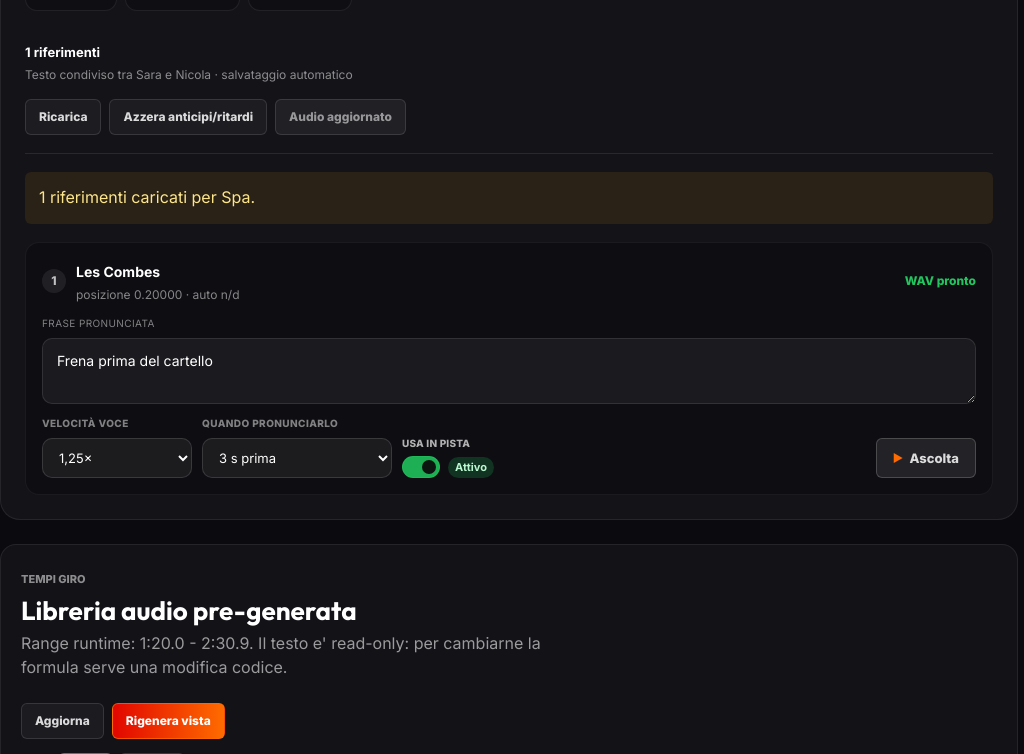
Scenario: Voice Lab user interactions › keeps reference generation retryable after synthesis or persistence failures
(page scrolled)
Replace the text in the text box labelled "Frase pronunciata" with "Frase da rigenerare" at (509, 371), box [42,338,976,404]
Wait 600 ms
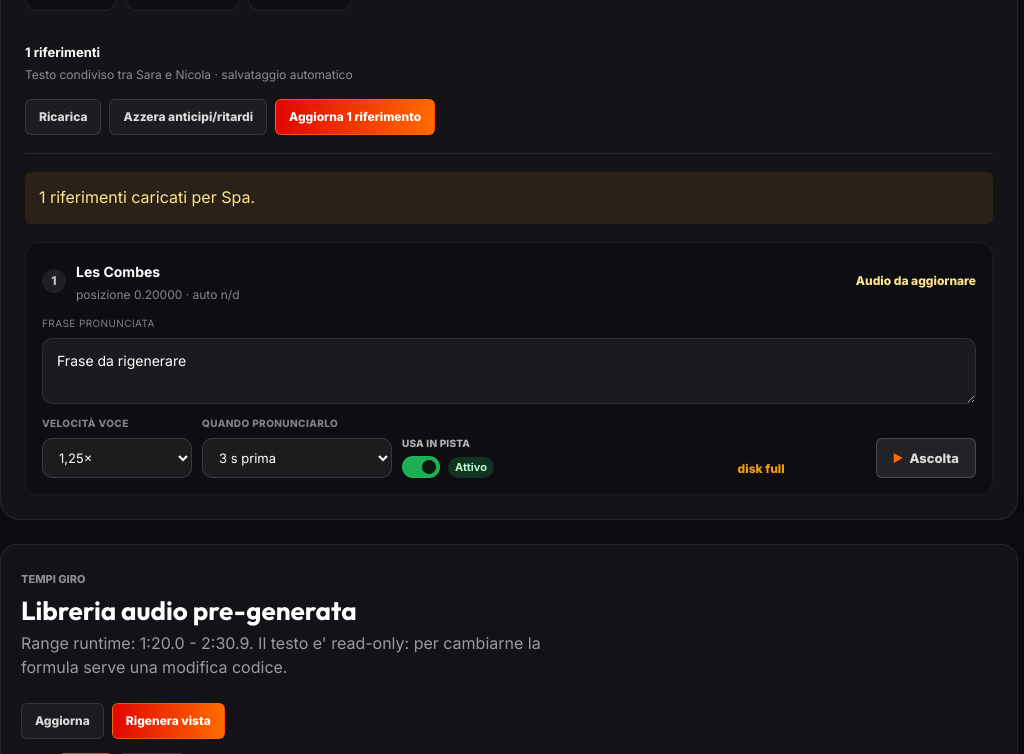
Check: the text "disk full" is shown, box [738,461,785,476]
Click the button "Aggiorna 1 riferimento" at (355, 117), box [275,99,435,135]
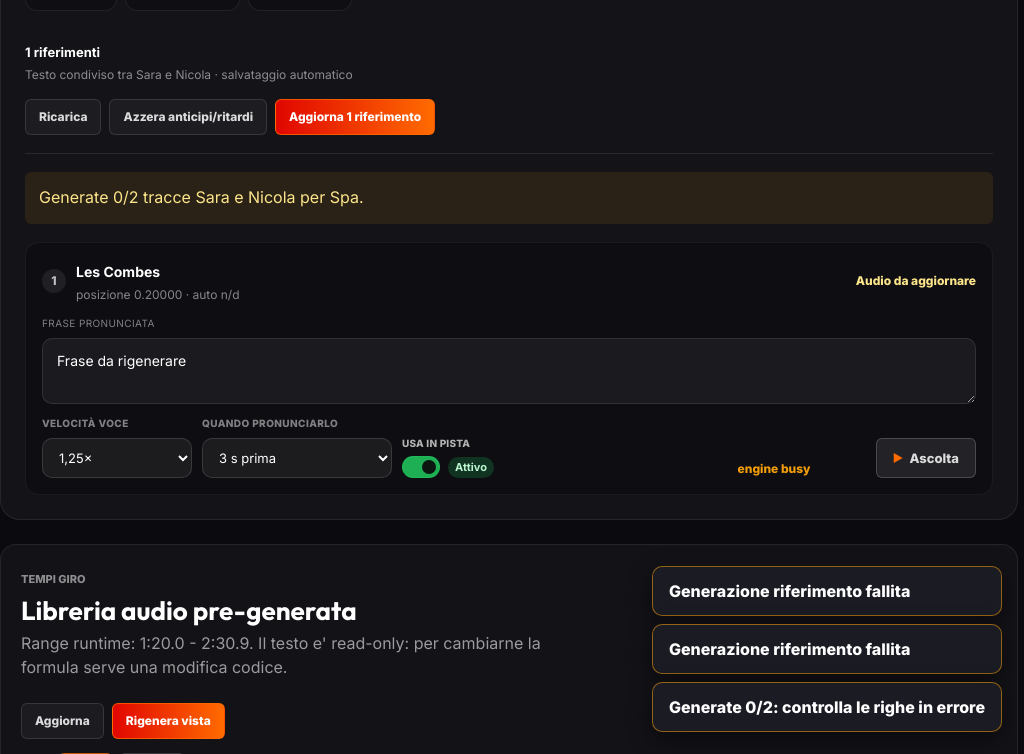
Check: the text "Generate 0/2" is shown, box [39,187,364,207]
Click the button "Ricarica" at (63, 117), box [25,99,102,135]
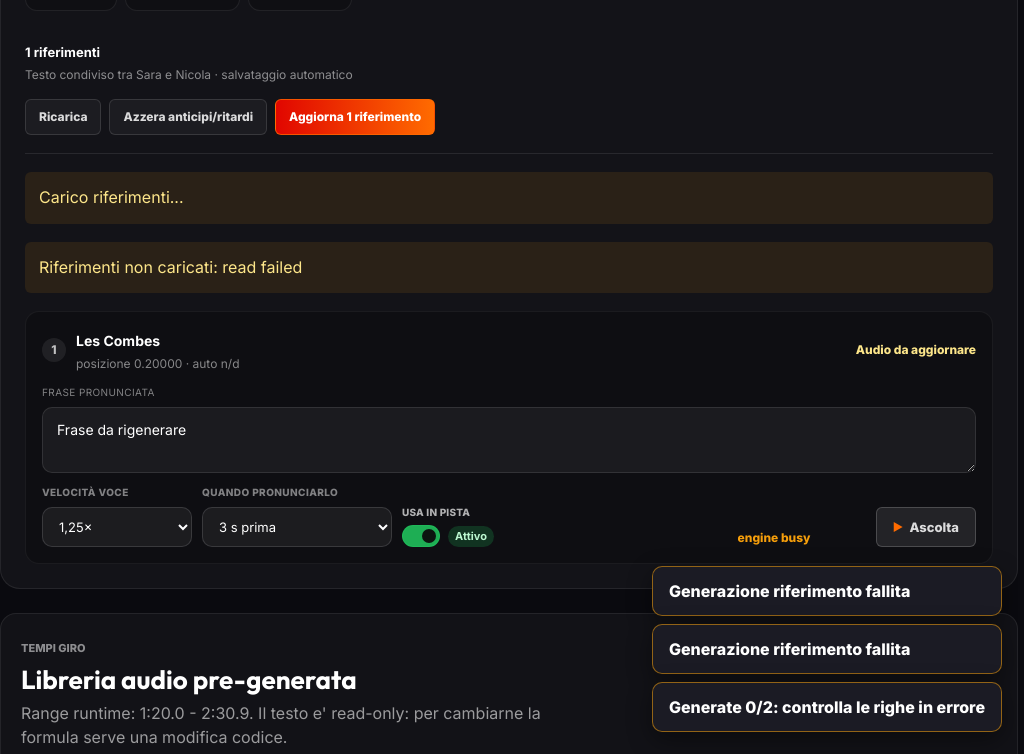
Check: the text "Riferimenti non caricati: read failed" is shown, box [25,242,993,293]
